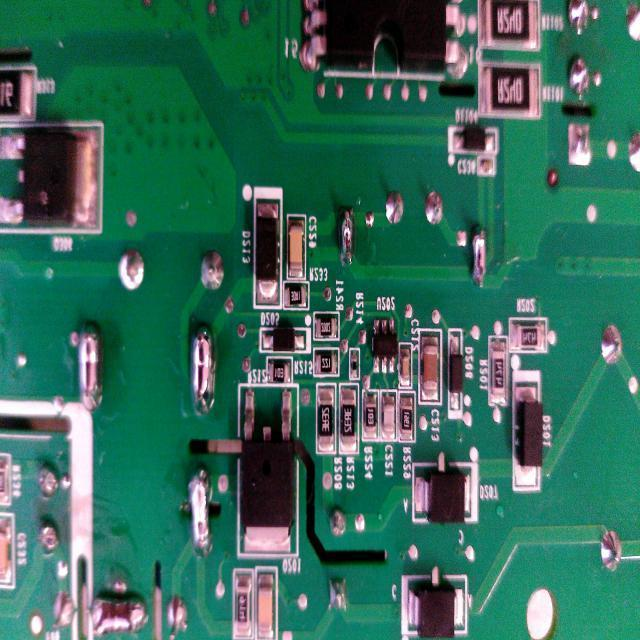Soldering shorted: (84, 580, 152, 638), (183, 464, 214, 559), (76, 316, 104, 414), (188, 320, 216, 417), (470, 224, 490, 294), (336, 206, 356, 268)
